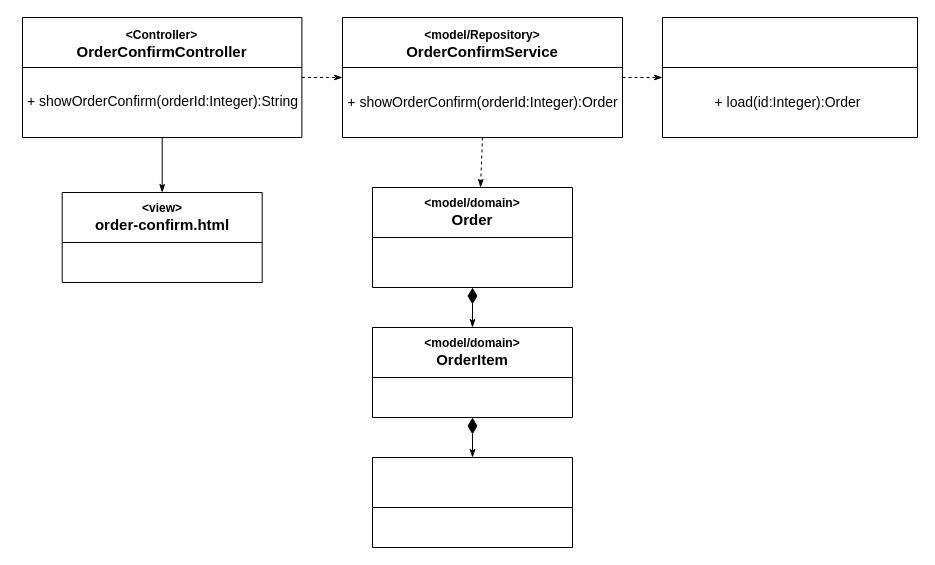
This 935x565 diagram has some shape labels left out. The shapes that lost their labels are listed below. From the top down, each one's box as (x1, y1, x2, y2) in pixels, then its label:
(662, 16, 918, 138): <model/Repository> OrderRepository
(372, 456, 572, 548): <model/domain> OrderTopping
